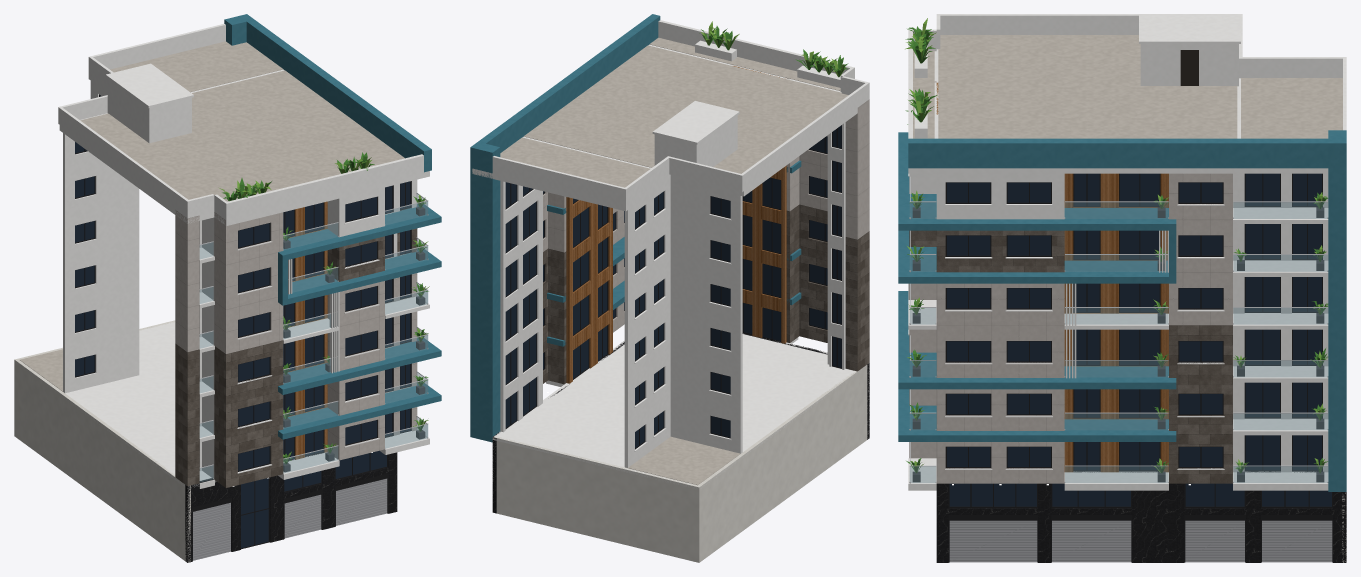
Rendered from Imara_Teal_R6.glb.
3 renders of one model, left to right at view 1: azimuth 30°, elevation 25°; view 2: azimuth 150°, elevation 25°; view 3: azimuth 270°, elevation 25°, orthographic. The views are drawn at different scales.
Parts seen in each view (by area): view 1: Imara_Render_White, Imara_Roof_Concrete, Imara_Window_Glass, Imara_Facade_Panels_Beige, Imara_Teal_Frames, Imara_Party_Walls, Imara_Stone_Cladding_Brown, Imara_Balcony_Glass_Railing, Imara_Window_Frames_Black, Imara_Shutters_Metal, Imara_Marble_Black_RDC, Imara_Wood_Cladding (+4 smaller); view 2: Imara_Render_White, Imara_Party_Walls, Imara_Roof_Concrete, Imara_Window_Glass, Imara_Teal_Frames, Imara_Stone_Cladding_Brown, Imara_Wood_Cladding, Imara_Facade_Panels_Beige, Imara_Window_Frames_Black, Imara_Marble_Black_RDC, Imara_Plants_Green, Imara_Plants_Light; view 3: Imara_Window_Glass, Imara_Render_White, Imara_Teal_Frames, Imara_Roof_Concrete, Imara_Facade_Panels_Beige, Imara_Balcony_Glass_Railing, Imara_Shutters_Metal, Imara_Window_Frames_Black, Imara_Stone_Cladding_Brown, Imara_Marble_Black_RDC, Imara_Wood_Cladding, Imara_Plants_Green (+4 smaller).
Boxes of the visible parts, x1=… form: Imara_Render_White: x1=15, y1=24, x2=429, y2=488; Imara_Roof_Concrete: x1=20, y1=41, x2=404, y2=391; Imara_Window_Glass: x1=75, y1=95, x2=410, y2=548; Imara_Facade_Panels_Beige: x1=175, y1=210, x2=417, y2=460; Imara_Teal_Frames: x1=224, y1=14, x2=441, y2=439; Imara_Party_Walls: x1=14, y1=320, x2=190, y2=562; Imara_Stone_Cladding_Brown: x1=175, y1=209, x2=417, y2=487; Imara_Balcony_Glass_Railing: x1=200, y1=194, x2=427, y2=482; Imara_Window_Frames_Black: x1=75, y1=94, x2=411, y2=561; Imara_Shutters_Metal: x1=193, y1=478, x2=387, y2=560; Imara_Marble_Black_RDC: x1=185, y1=435, x2=397, y2=562; Imara_Wood_Cladding: x1=283, y1=201, x2=327, y2=459; Imara_Render_White: x1=472, y1=20, x2=869, y2=489; Imara_Party_Walls: x1=492, y1=365, x2=869, y2=562; Imara_Roof_Concrete: x1=500, y1=37, x2=848, y2=485; Imara_Window_Glass: x1=505, y1=125, x2=841, y2=447; Imara_Teal_Frames: x1=470, y1=14, x2=801, y2=442; Imara_Stone_Cladding_Brown: x1=543, y1=204, x2=869, y2=384; Imara_Wood_Cladding: x1=566, y1=66, x2=786, y2=383; Imara_Facade_Panels_Beige: x1=543, y1=78, x2=869, y2=332; Imara_Window_Frames_Black: x1=505, y1=125, x2=841, y2=449; Imara_Marble_Black_RDC: x1=492, y1=333, x2=869, y2=513; Imara_Plants_Green: x1=699, y1=26, x2=848, y2=76; Imara_Plants_Light: x1=701, y1=21, x2=846, y2=76; Imara_Window_Glass: x1=947, y1=173, x2=1331, y2=506; Imara_Render_White: x1=908, y1=14, x2=1346, y2=490; Imara_Teal_Frames: x1=898, y1=130, x2=1346, y2=491; Imara_Roof_Concrete: x1=913, y1=35, x2=1342, y2=138; Imara_Facade_Panels_Beige: x1=909, y1=51, x2=1232, y2=483; Imara_Balcony_Glass_Railing: x1=910, y1=202, x2=1327, y2=482; Imara_Shutters_Metal: x1=949, y1=520, x2=1332, y2=562; Imara_Window_Frames_Black: x1=945, y1=173, x2=1332, y2=562; Imara_Stone_Cladding_Brown: x1=909, y1=230, x2=1232, y2=483; Imara_Marble_Black_RDC: x1=936, y1=472, x2=1346, y2=562; Imara_Wood_Cladding: x1=936, y1=82, x2=1168, y2=472; Imara_Plants_Green: x1=905, y1=26, x2=1328, y2=472.
Bounding box in the file's own units: 17.85 × 27.45 × 24.6.
18 materials, 9 textured.
